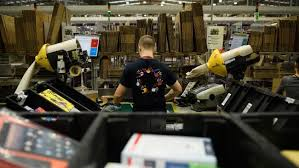noepi: (114, 33, 184, 112), (276, 52, 299, 104)
